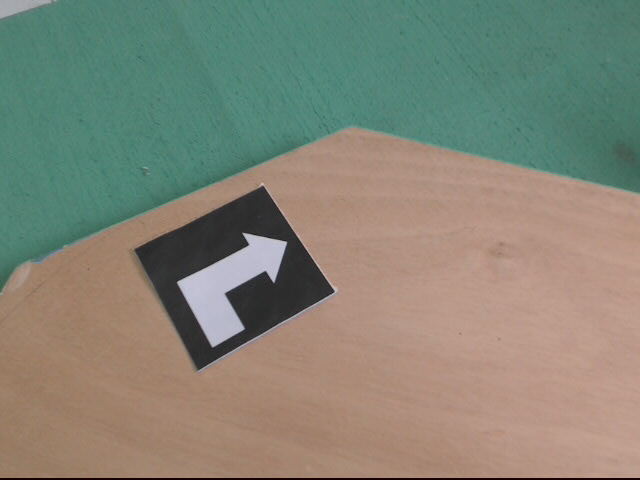right: (133, 183, 338, 375)
